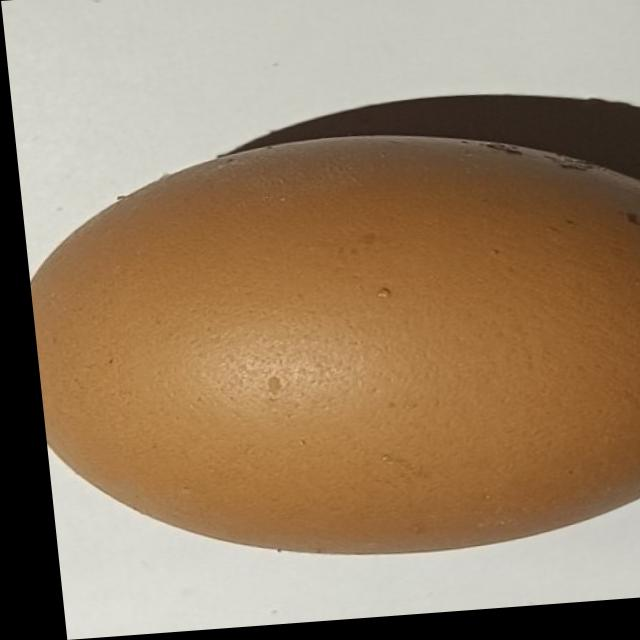fresh: (13, 121, 640, 582)
